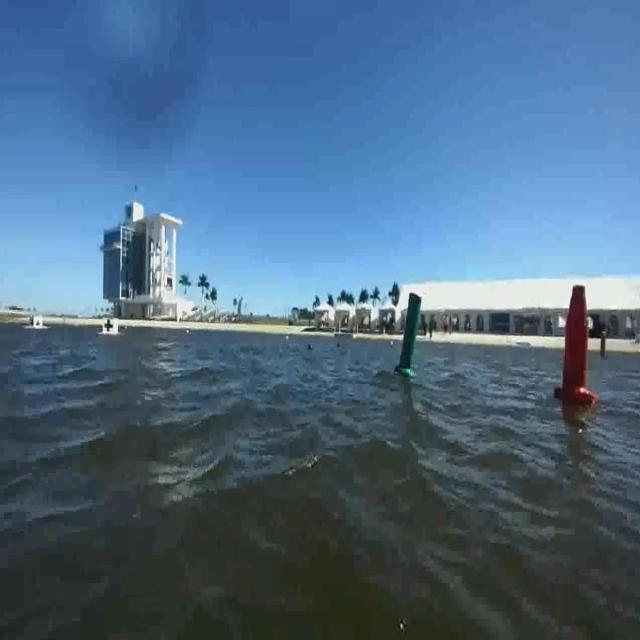green-column-buoy: (396, 290, 424, 378)
red-column-buoy: (555, 284, 596, 409)
